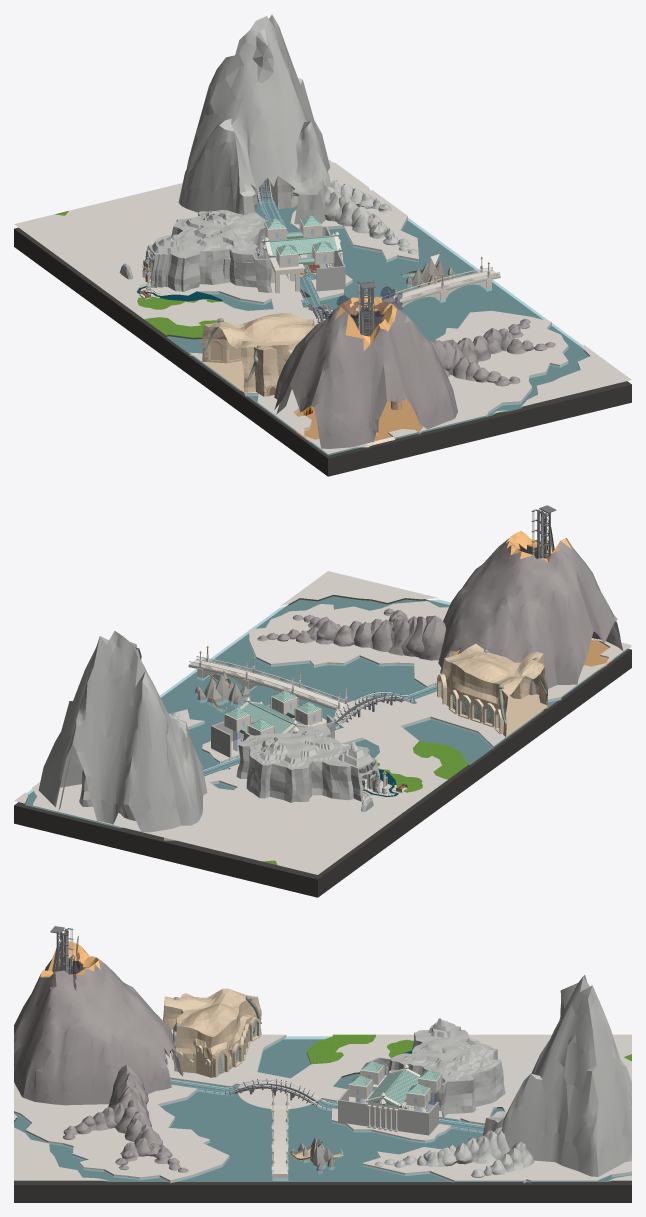
File: odyssey.glb
3 renders of one model, top to bottom at view 1: azimuth 30°, elevation 25°; view 2: azimuth 150°, elevation 25°; view 3: azimuth 270°, elevation 25°, orthographic.
Parts seen in each view (by area): view 1: Queue_Wall_8, Mesh1054, DIORAMA_Base, Mesh10, Mesh12, Scylla_Charybdis_Restaurant, Athena_Head, Mesh1055, Mesh630, Calypso_RidgeCap, Mesh11, Mesh3813 (+2 smaller); view 2: Mesh1054, Queue_Wall_8, DIORAMA_Base, Mesh10, Mesh12, Scylla_Charybdis_Restaurant, Athena_Head, Mesh1055, Mesh630, Calypso_RidgeCap, Mythos_Port_Rim16, Mesh877 (+2 smaller); view 3: DIORAMA_Base, Queue_Wall_8, Mesh1054, Mesh10, Mesh12, Scylla_Charybdis_Restaurant, Athena_Head, Mesh630, Calypso_RidgeCap, Mesh1055, Mythos_Port_Rim16, Mesh632 (+2 smaller).
Boxes of the visible parts, x1=… form: Queue_Wall_8: x1=119, y1=14, x2=417, y2=292; Mesh1054: x1=14, y1=157, x2=631, y2=453; DIORAMA_Base: x1=14, y1=182, x2=631, y2=476; Mesh10: x1=274, y1=304, x2=555, y2=448; Mesh12: x1=166, y1=160, x2=589, y2=455; Scylla_Charybdis_Restaurant: x1=202, y1=313, x2=314, y2=396; Athena_Head: x1=139, y1=219, x2=500, y2=309; Mesh1055: x1=55, y1=211, x2=222, y2=337; Mesh630: x1=257, y1=178, x2=378, y2=435; Calypso_RidgeCap: x1=261, y1=215, x2=341, y2=257; Mesh11: x1=335, y1=294, x2=396, y2=350; Mesh3813: x1=323, y1=286, x2=402, y2=319; Mesh1054: x1=14, y1=571, x2=631, y2=874; Queue_Wall_8: x1=38, y1=631, x2=380, y2=832; DIORAMA_Base: x1=14, y1=594, x2=631, y2=897; Mesh10: x1=257, y1=538, x2=623, y2=695; Mesh12: x1=25, y1=596, x2=631, y2=828; Scylla_Charybdis_Restaurant: x1=440, y1=644, x2=547, y2=736; Athena_Head: x1=188, y1=656, x2=407, y2=792; Mesh1055: x1=262, y1=741, x2=469, y2=864; Mesh630: x1=204, y1=505, x2=556, y2=774; Calypso_RidgeCap: x1=225, y1=690, x2=320, y2=733; Mythos_Port_Rim16: x1=437, y1=674, x2=538, y2=733; Mesh877: x1=195, y1=675, x2=250, y2=707; DIORAMA_Base: x1=14, y1=1039, x2=631, y2=1202; Queue_Wall_8: x1=338, y1=975, x2=631, y2=1177; Mesh1054: x1=14, y1=1034, x2=631, y2=1183; Mesh10: x1=14, y1=946, x2=188, y2=1172; Mesh12: x1=14, y1=1036, x2=631, y2=1181; Scylla_Charybdis_Restaurant: x1=163, y1=988, x2=261, y2=1077; Athena_Head: x1=271, y1=1065, x2=442, y2=1180; Mesh630: x1=50, y1=926, x2=483, y2=1133; Calypso_RidgeCap: x1=350, y1=1061, x2=441, y2=1107; Mesh1055: x1=306, y1=1034, x2=631, y2=1064; Mythos_Port_Rim16: x1=171, y1=1017, x2=260, y2=1077; Mesh632: x1=66, y1=929, x2=483, y2=1132.
Size of what is drawn, in the model's own units: 105 by 63.87 by 188.
70 materials, 8 textured.
